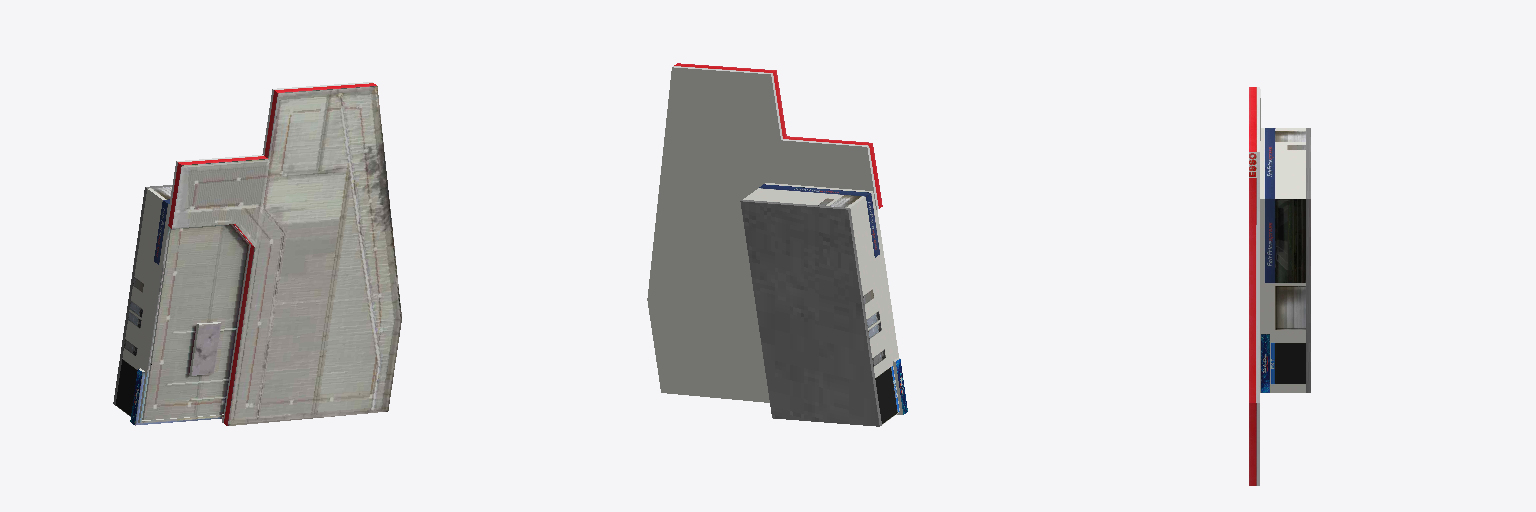
3 views of the same model, side by side, from view 1: azimuth 30°, elevation 25°; view 2: azimuth 150°, elevation 25°; view 3: azimuth 270°, elevation 25° (orthographic).
Parts seen in each view (by area): view 1: polygon.756; view 2: polygon.756; view 3: polygon.756.
Part boxes in pixels (x1,y1,x2,y2): polygon.756: (113, 82, 401, 425); polygon.756: (647, 63, 907, 426); polygon.756: (1249, 87, 1310, 485).
Size of the model in its own units: 32.29 by 40.8 by 6.66.
1 materials, 1 textured.